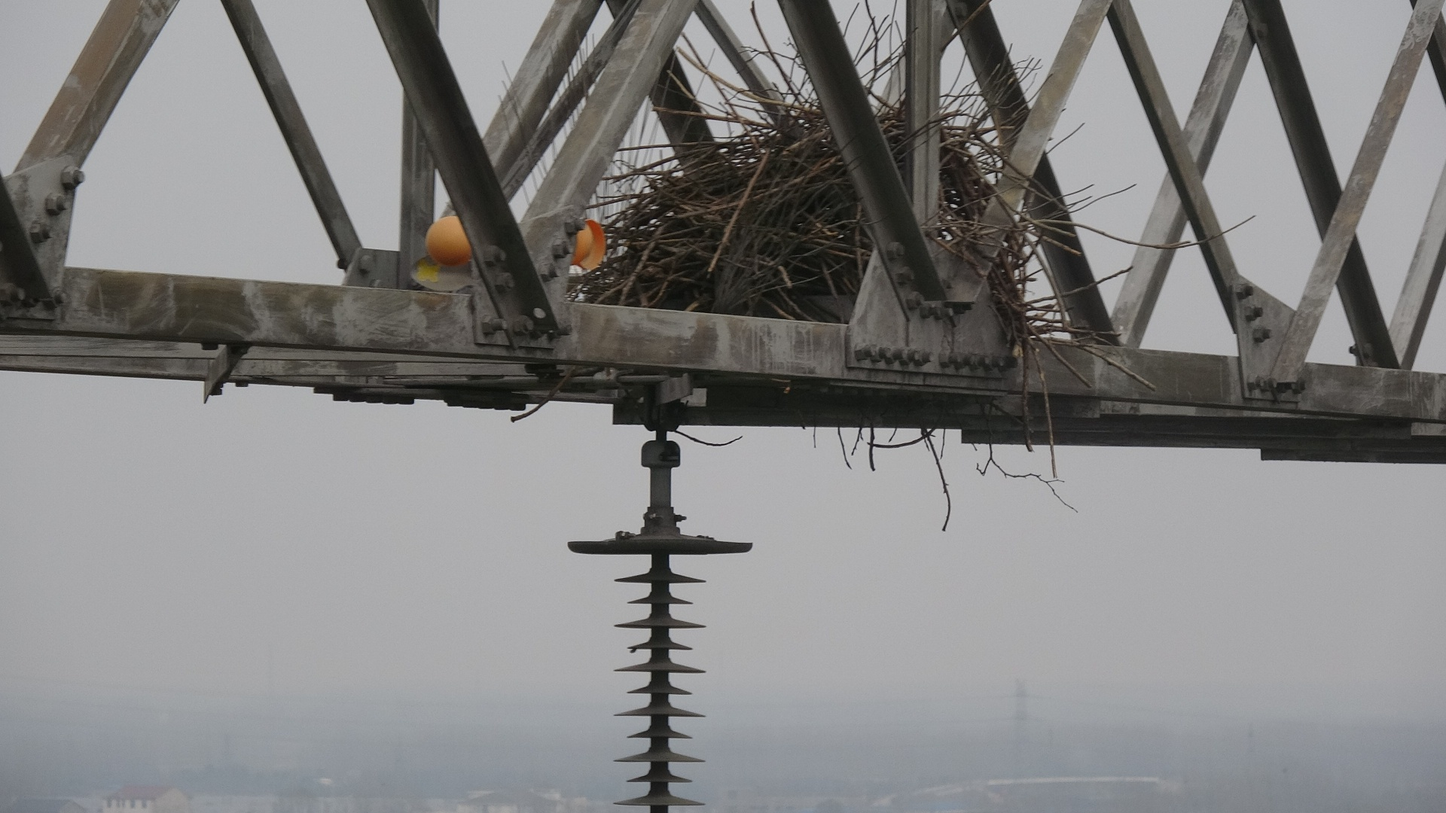insulator: (607, 567, 713, 813)
